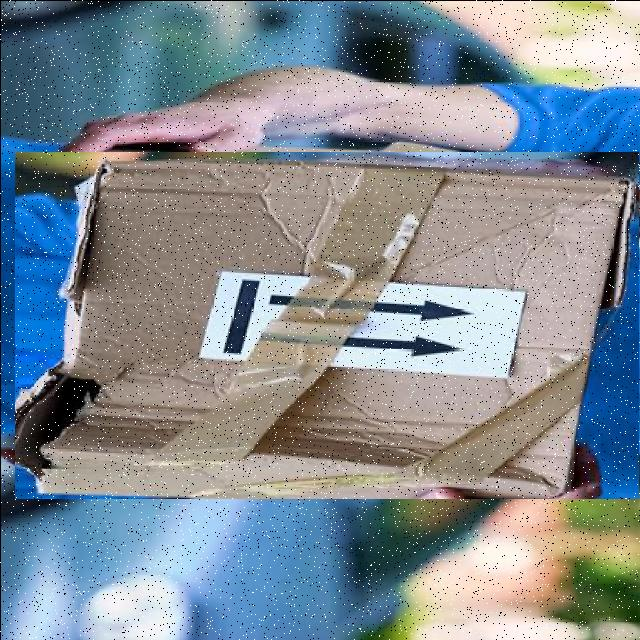defect: (14, 151, 638, 498)
